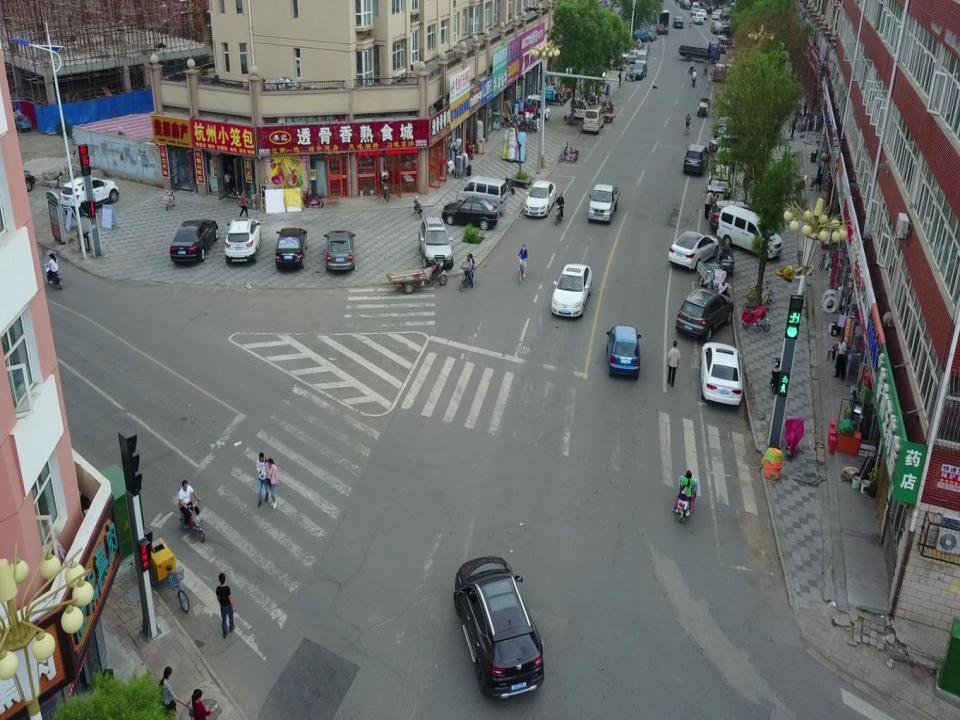car: (456, 560, 546, 704), (676, 287, 734, 340), (700, 342, 743, 406), (60, 175, 119, 216), (551, 261, 594, 317), (170, 220, 219, 264), (668, 230, 720, 271), (709, 199, 766, 234), (442, 195, 500, 229), (606, 326, 641, 378), (419, 217, 453, 270), (225, 218, 261, 264), (324, 231, 356, 272), (276, 228, 308, 269), (708, 135, 755, 161), (524, 181, 556, 217), (706, 159, 730, 192), (526, 94, 550, 122), (570, 97, 592, 119)
truck: (588, 183, 620, 224)
van: (715, 207, 784, 261), (456, 174, 508, 211), (684, 143, 709, 176), (582, 105, 605, 134)
